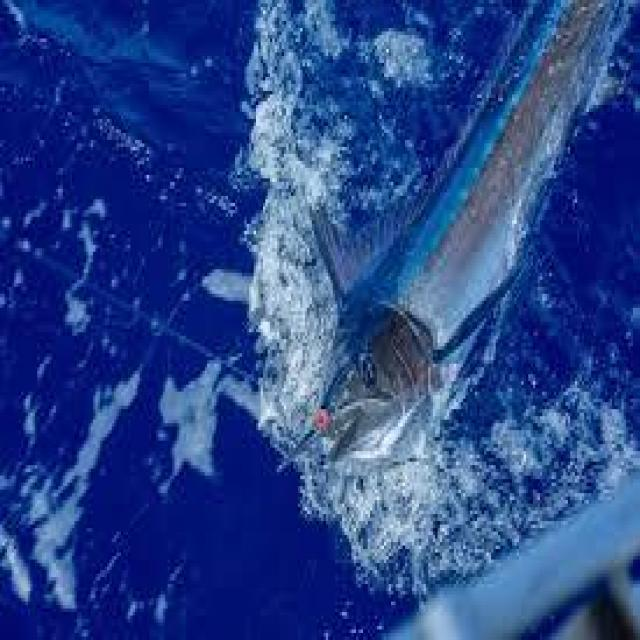Spear Fish: (274, 3, 640, 479)
